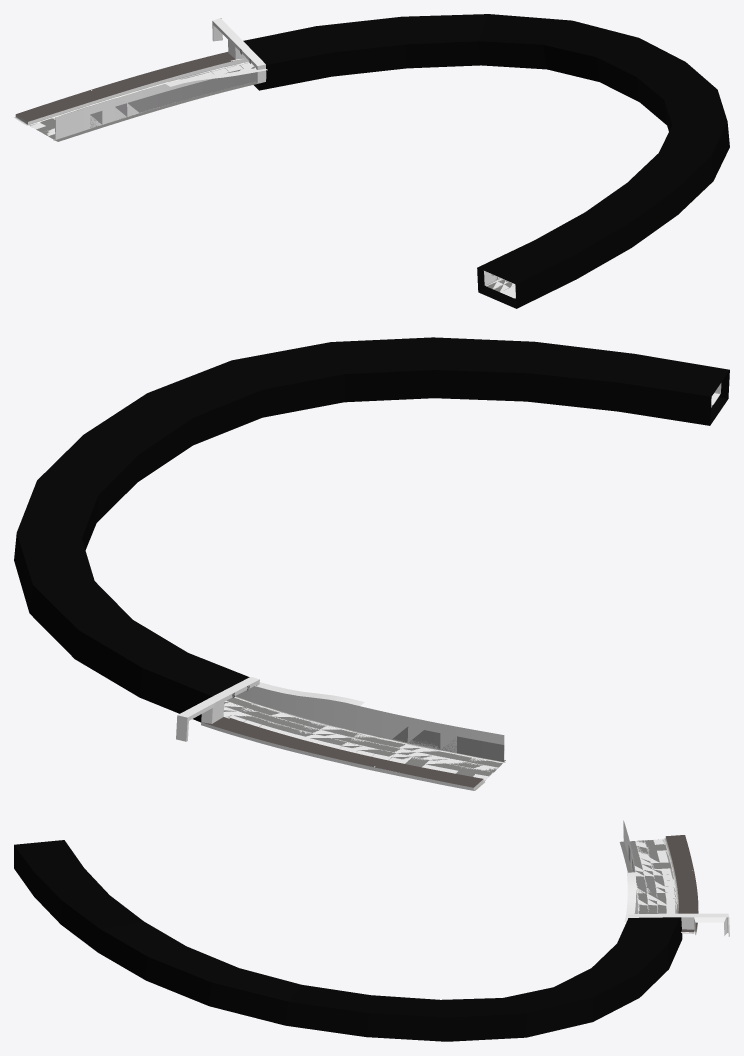
File: tunnel_NW2a.dae
The picture shows the model from 3 angles, top to bottom: view 1: azimuth 30°, elevation 25°; view 2: azimuth 150°, elevation 25°; view 3: azimuth 270°, elevation 25°; orthographic projection. The views are drawn at different scales.
Parts seen in each view (by area): view 1: tunnel_NW2a_a5000, tunnel_NW2a_a1500, tunnel_NW2a_a3000; view 2: tunnel_NW2a_a5000, tunnel_NW2a_a3000, tunnel_NW2a_a1500; view 3: tunnel_NW2a_a5000, tunnel_NW2a_a1500, tunnel_NW2a_a3000.
Part boxes in pixels (x1,y1,x2,y2): tunnel_NW2a_a5000: (14, 14, 729, 308); tunnel_NW2a_a1500: (16, 52, 257, 141); tunnel_NW2a_a3000: (30, 61, 515, 298); tunnel_NW2a_a5000: (14, 337, 729, 791); tunnel_NW2a_a3000: (223, 392, 720, 781); tunnel_NW2a_a1500: (202, 704, 505, 787); tunnel_NW2a_a5000: (14, 820, 729, 1041); tunnel_NW2a_a1500: (619, 835, 698, 932); tunnel_NW2a_a3000: (628, 839, 678, 913).
Bounding box in the file's own units: 224 × 295 × 32.51.
